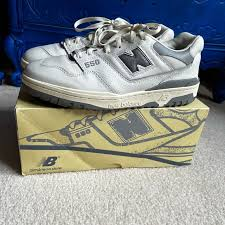new_balance_550_grey: (20, 30, 204, 109)
